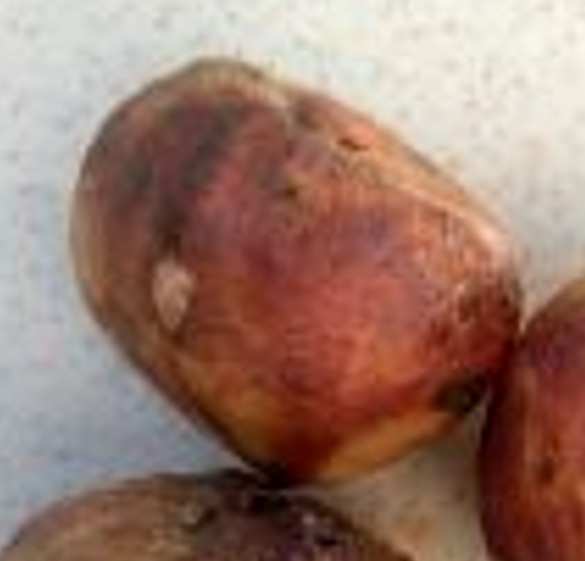guava_C: (66, 54, 527, 488)
